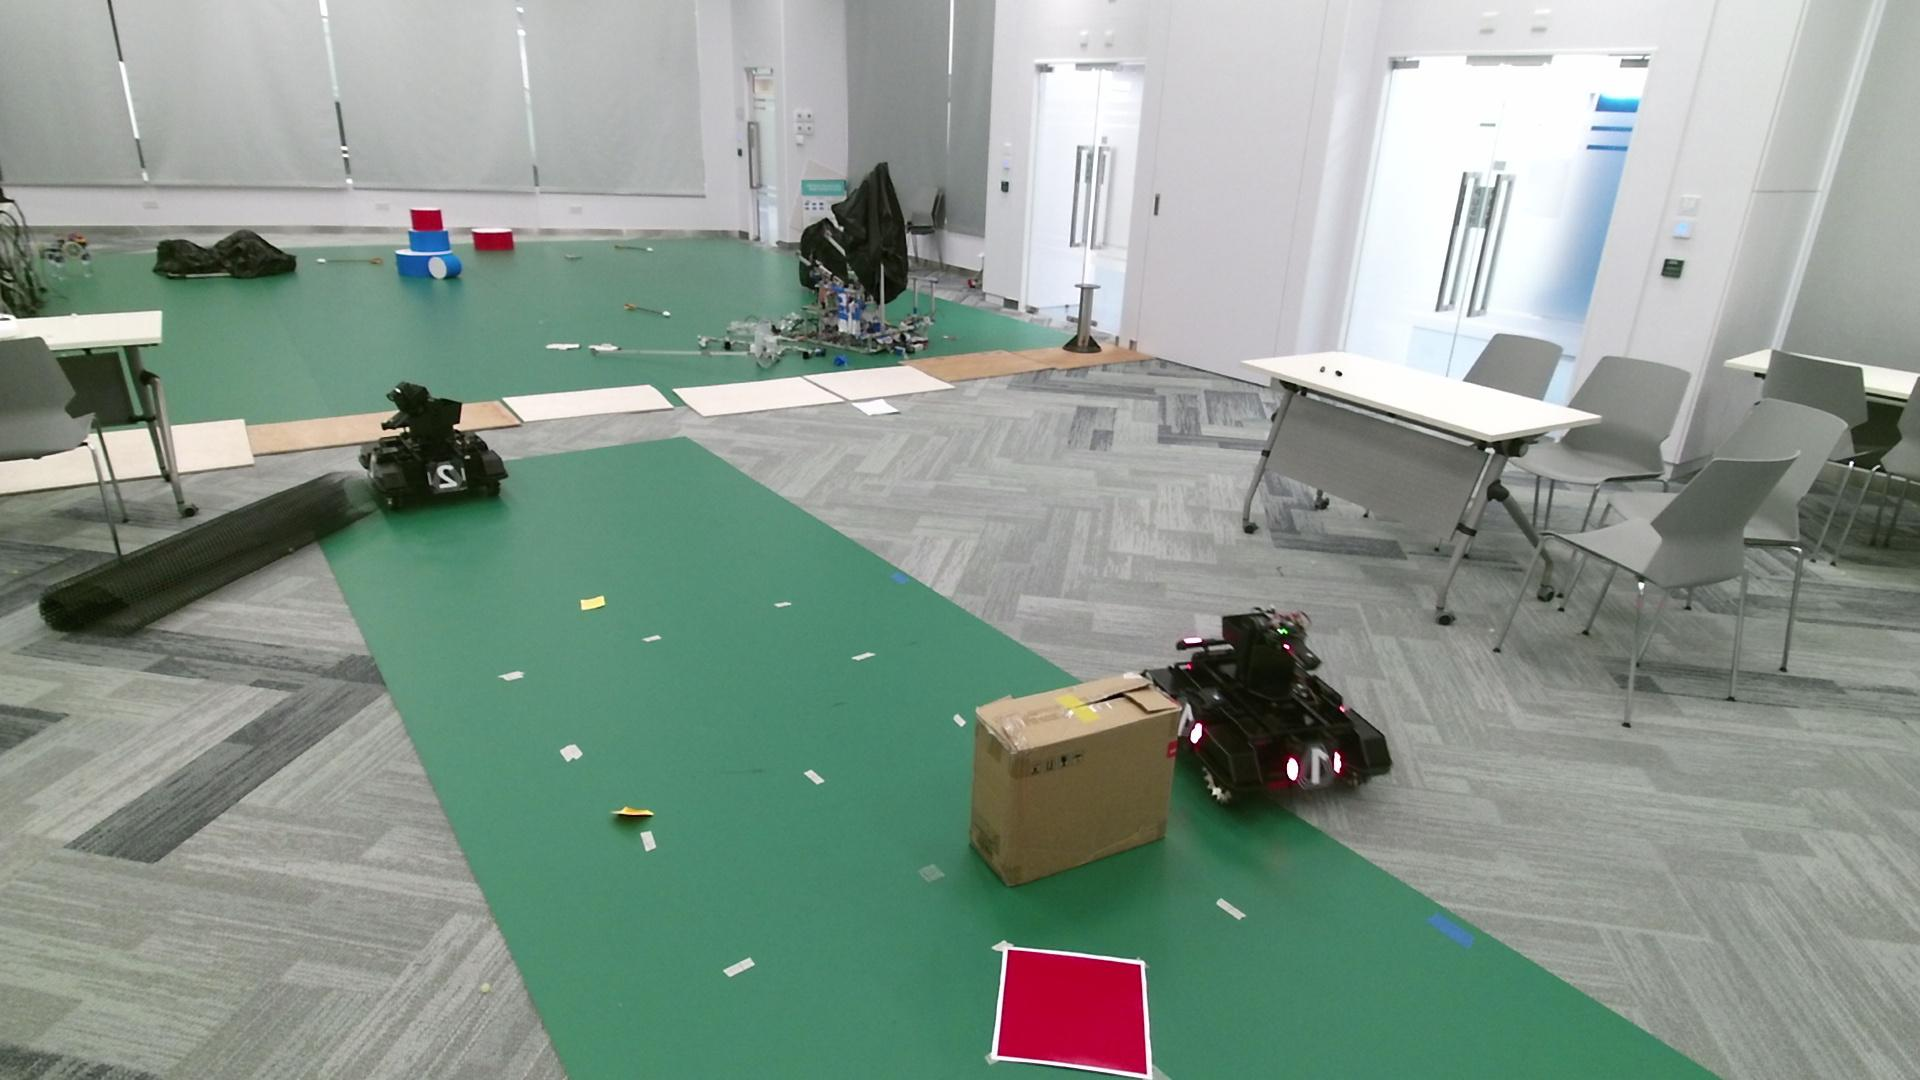robot: (1133, 604, 1394, 808), (357, 381, 509, 508)
